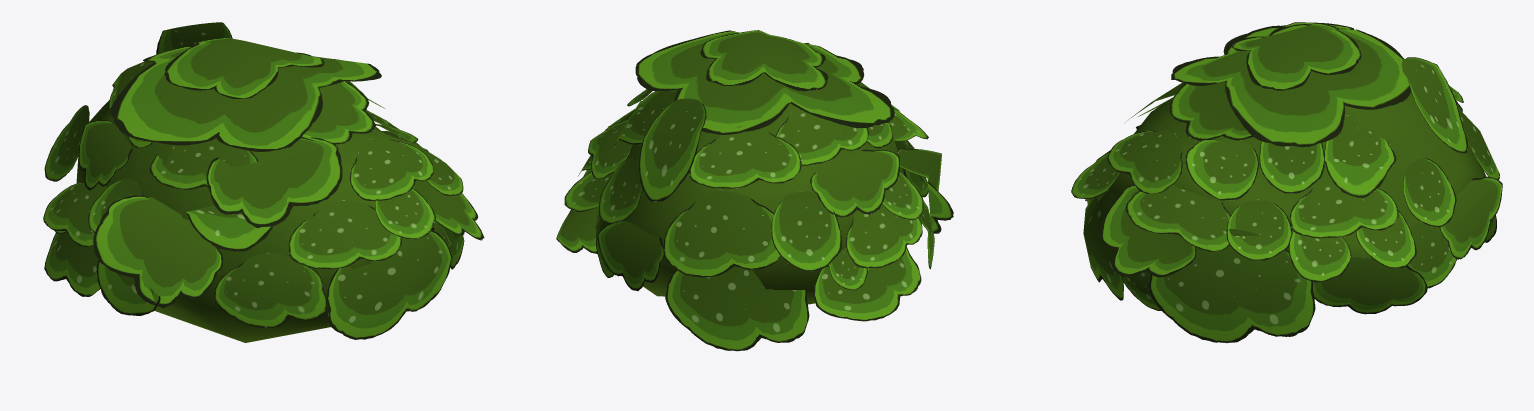
The model's file is bush.FBX.
3 renders of one model, left to right at view 1: azimuth 30°, elevation 25°; view 2: azimuth 150°, elevation 25°; view 3: azimuth 270°, elevation 25°, orthographic. The views are drawn at different scales.
Parts seen in each view (by area): view 1: Leaf53, Leaf Base Small, Leaf66, Leaf65, Leaf69, Leaf63, Leaf86, Leaf54, Leaf71, Leaf62, Leaf52, Leaf75 (+12 smaller); view 2: Leaf53, Leaf78, Leaf Base Small, Leaf090, Leaf86, Leaf088, Leaf68, Leaf75, Leaf089, Leaf72, Leaf73, Leaf092 (+13 smaller); view 3: Leaf53, Leaf58, Leaf Base Small, Leaf86, Leaf51, Leaf55, Leaf81, Leaf57, Leaf087, Leaf84, Leaf71, Leaf68 (+12 smaller).
Boxes of the visible parts, <box> form: Leaf53: <box>110,47,381,151</box>; Leaf Base Small: <box>76,105,420,342</box>; Leaf66: <box>93,195,222,308</box>; Leaf65: <box>327,229,452,339</box>; Leaf69: <box>206,137,342,228</box>; Leaf63: <box>214,253,326,327</box>; Leaf86: <box>164,37,324,98</box>; Leaf54: <box>288,200,401,269</box>; Leaf71: <box>349,138,433,200</box>; Leaf62: <box>149,137,258,189</box>; Leaf52: <box>301,81,375,144</box>; Leaf75: <box>78,120,132,190</box>; Leaf53: <box>635,30,894,134</box>; Leaf78: <box>665,266,809,351</box>; Leaf Base Small: <box>595,89,904,304</box>; Leaf090: <box>663,190,780,277</box>; Leaf86: <box>700,30,828,91</box>; Leaf088: <box>689,126,801,188</box>; Leaf68: <box>639,98,706,201</box>; Leaf75: <box>810,149,899,217</box>; Leaf089: <box>771,191,841,271</box>; Leaf72: <box>813,247,921,321</box>; Leaf73: <box>846,204,922,268</box>; Leaf092: <box>597,220,664,291</box>; Leaf53: <box>1171,22,1411,147</box>; Leaf58: <box>1148,228,1315,343</box>; Leaf Base Small: <box>1096,81,1484,258</box>; Leaf86: <box>1231,23,1361,90</box>; Leaf51: <box>1125,184,1230,251</box>; Leaf55: <box>1100,185,1196,277</box>; Leaf81: <box>1289,177,1398,238</box>; Leaf57: <box>1313,257,1427,314</box>; Leaf087: <box>1324,115,1396,197</box>; Leaf84: <box>1185,138,1258,200</box>; Leaf71: <box>1107,130,1182,193</box>; Leaf68: <box>1401,57,1467,153</box>.
Bounding box in the file's own units: 2.36 × 1.5 × 2.18.
